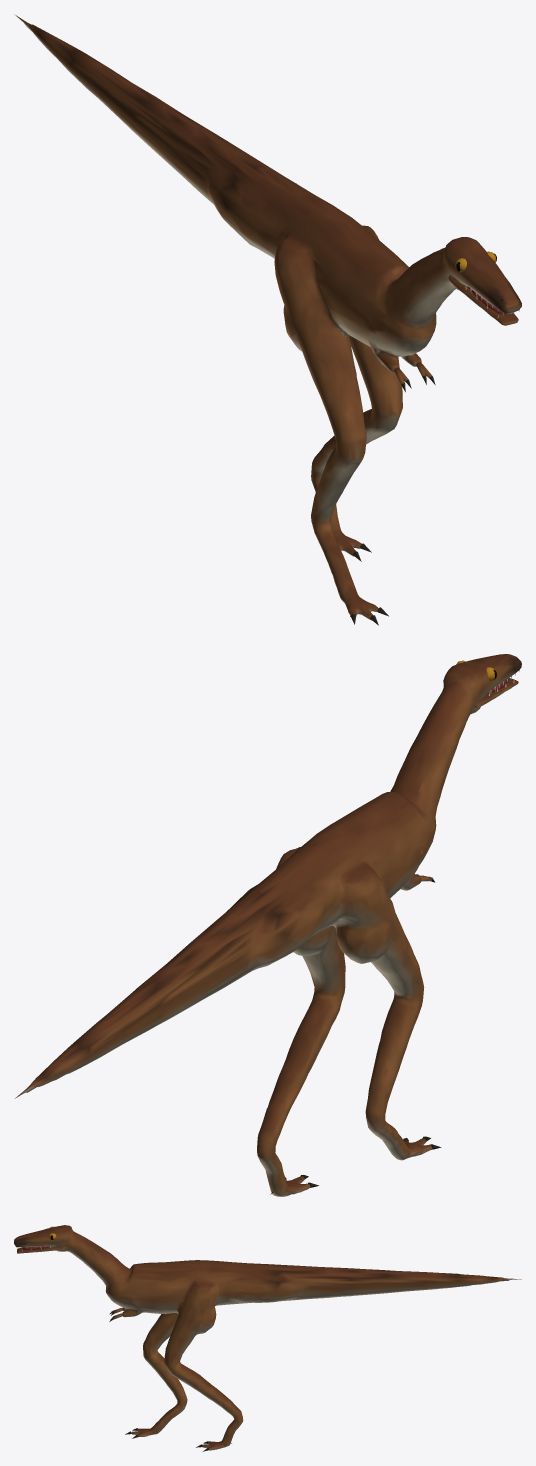
File: Compsognathus.fbx
The picture shows the model from 3 angles, top to bottom: view 1: azimuth 30°, elevation 25°; view 2: azimuth 150°, elevation 25°; view 3: azimuth 270°, elevation 25°; orthographic projection. The views are drawn at different scales.
Parts seen in each view (by area): view 1: Compsognathus; view 2: Compsognathus; view 3: Compsognathus.
Boxes of the visible parts, x1,y1,x2,y2 form: Compsognathus: [14, 14, 521, 625]; Compsognathus: [15, 654, 521, 1196]; Compsognathus: [14, 1225, 521, 1451].
Bounding box in the file's own units: 0.3502 × 1.39 × 2.98.
